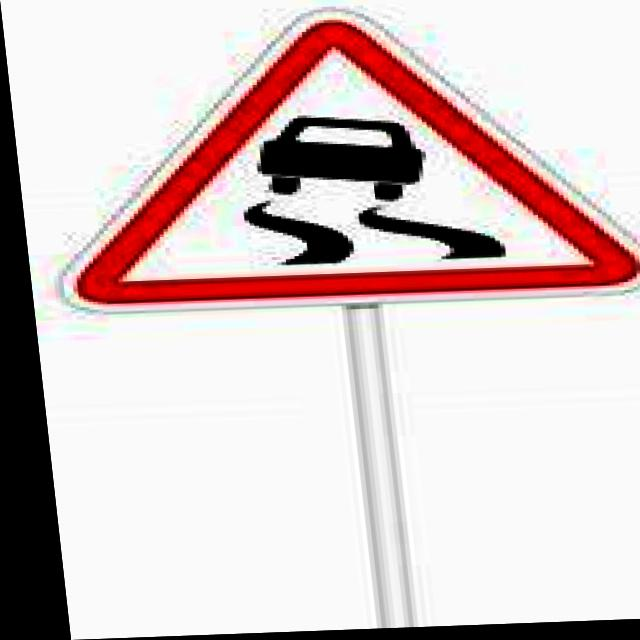SLIPPERY_ROAD: (40, 8, 640, 318)
